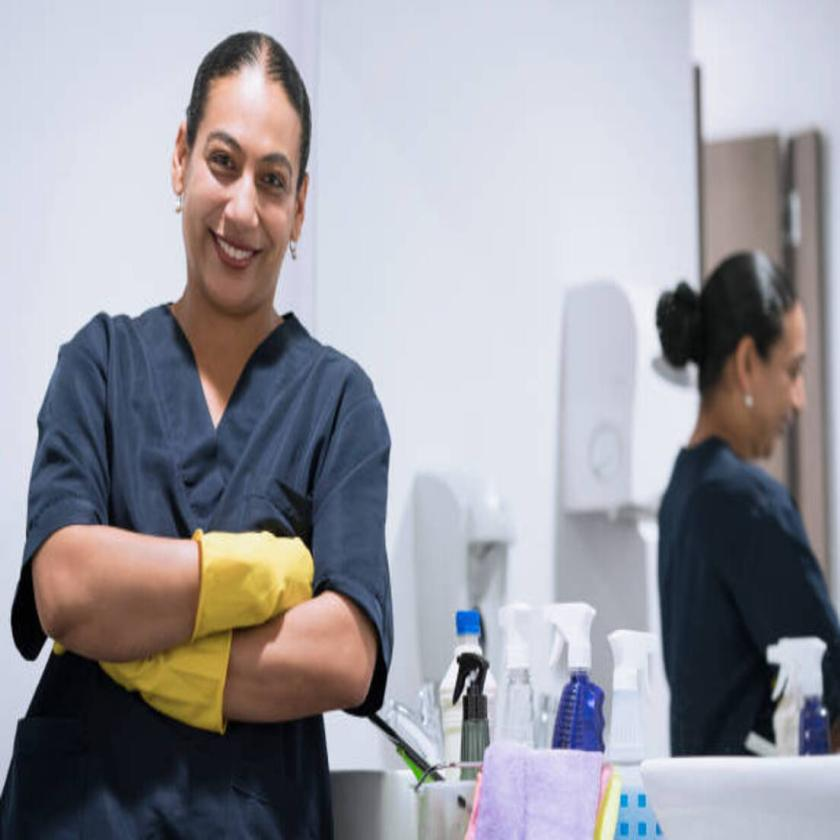Sin_casco: (170, 25, 321, 325), (666, 250, 812, 496)
